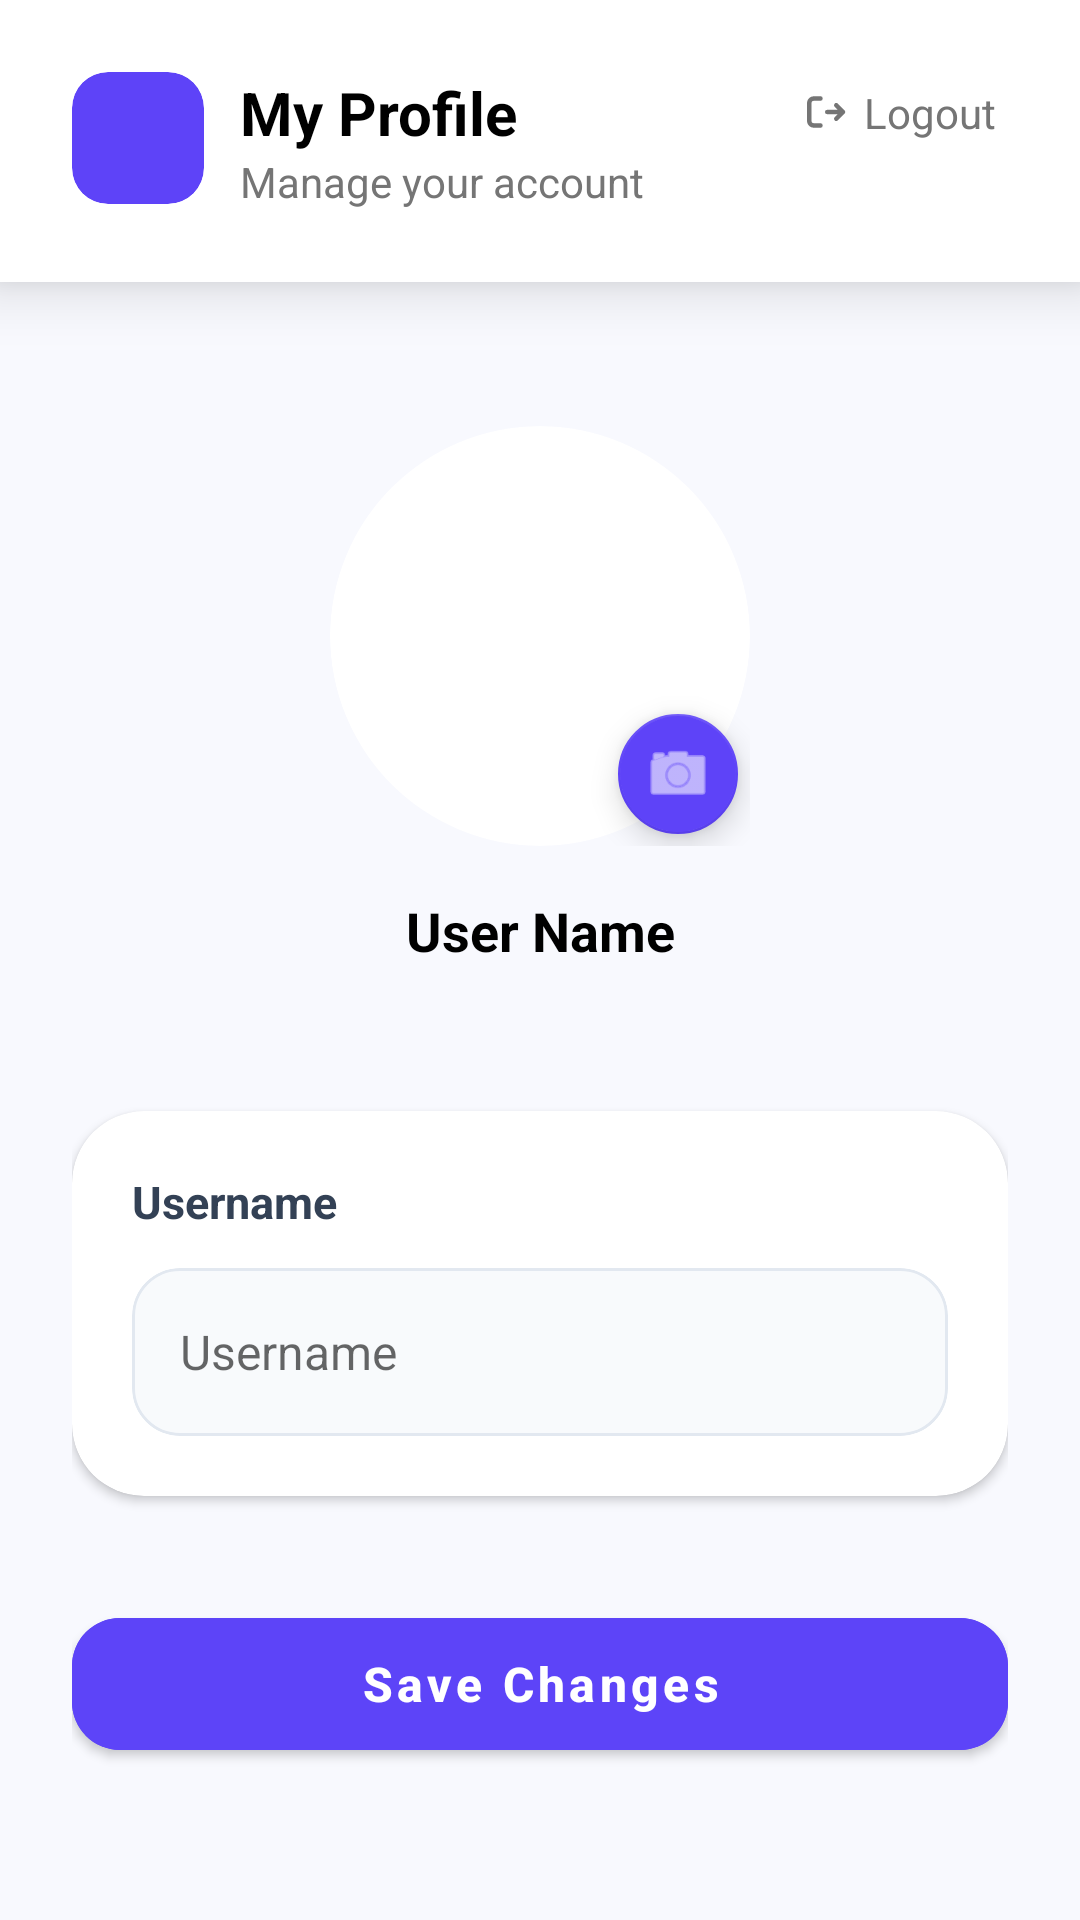

Point at icon controls on the screen. Image size 1080x1920, points as (x,y).
camera: (679,778)
